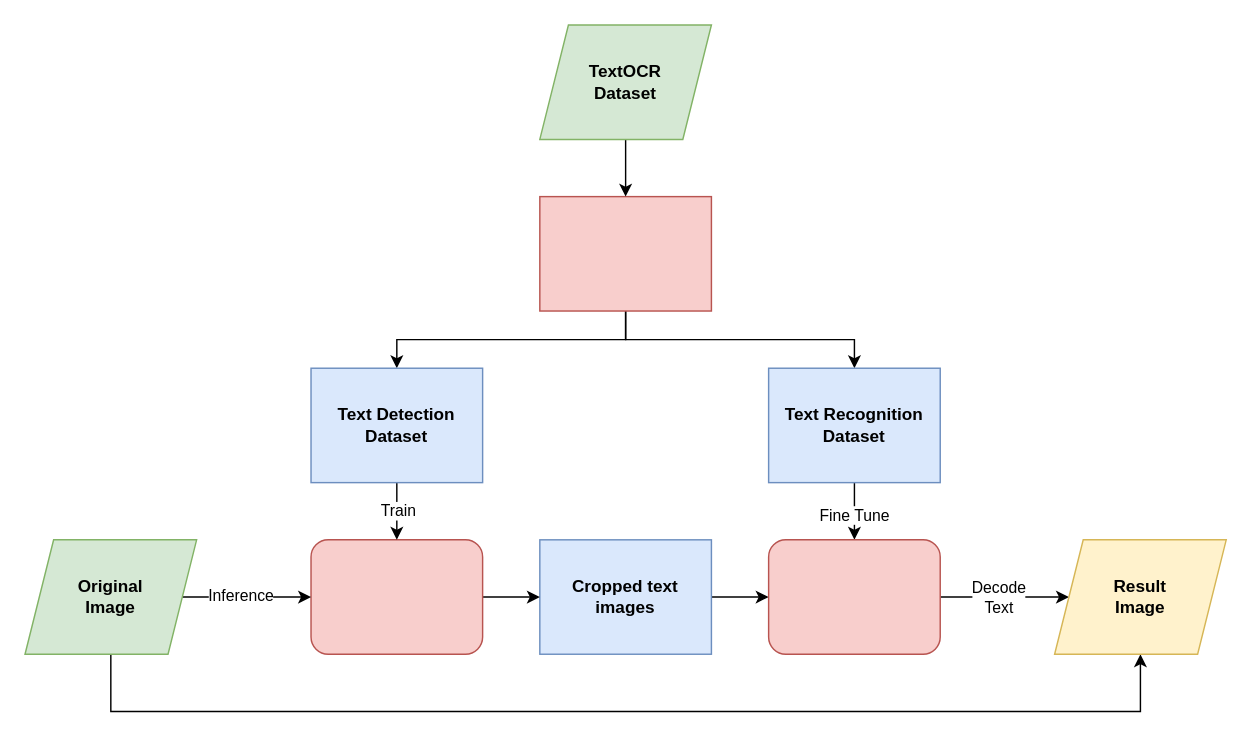
Image size: 1251x748. Some labels were removed from this diagram. The shapes that lost their labels are listed below. From the top down, each one's box as (x1, y1, x2, y2) in pixels, then its label:
(538, 195, 711, 311): Preprocessing
(310, 538, 483, 654): YOLOv8 Text Detector
(767, 538, 940, 654): CRNN Text Recognizer
